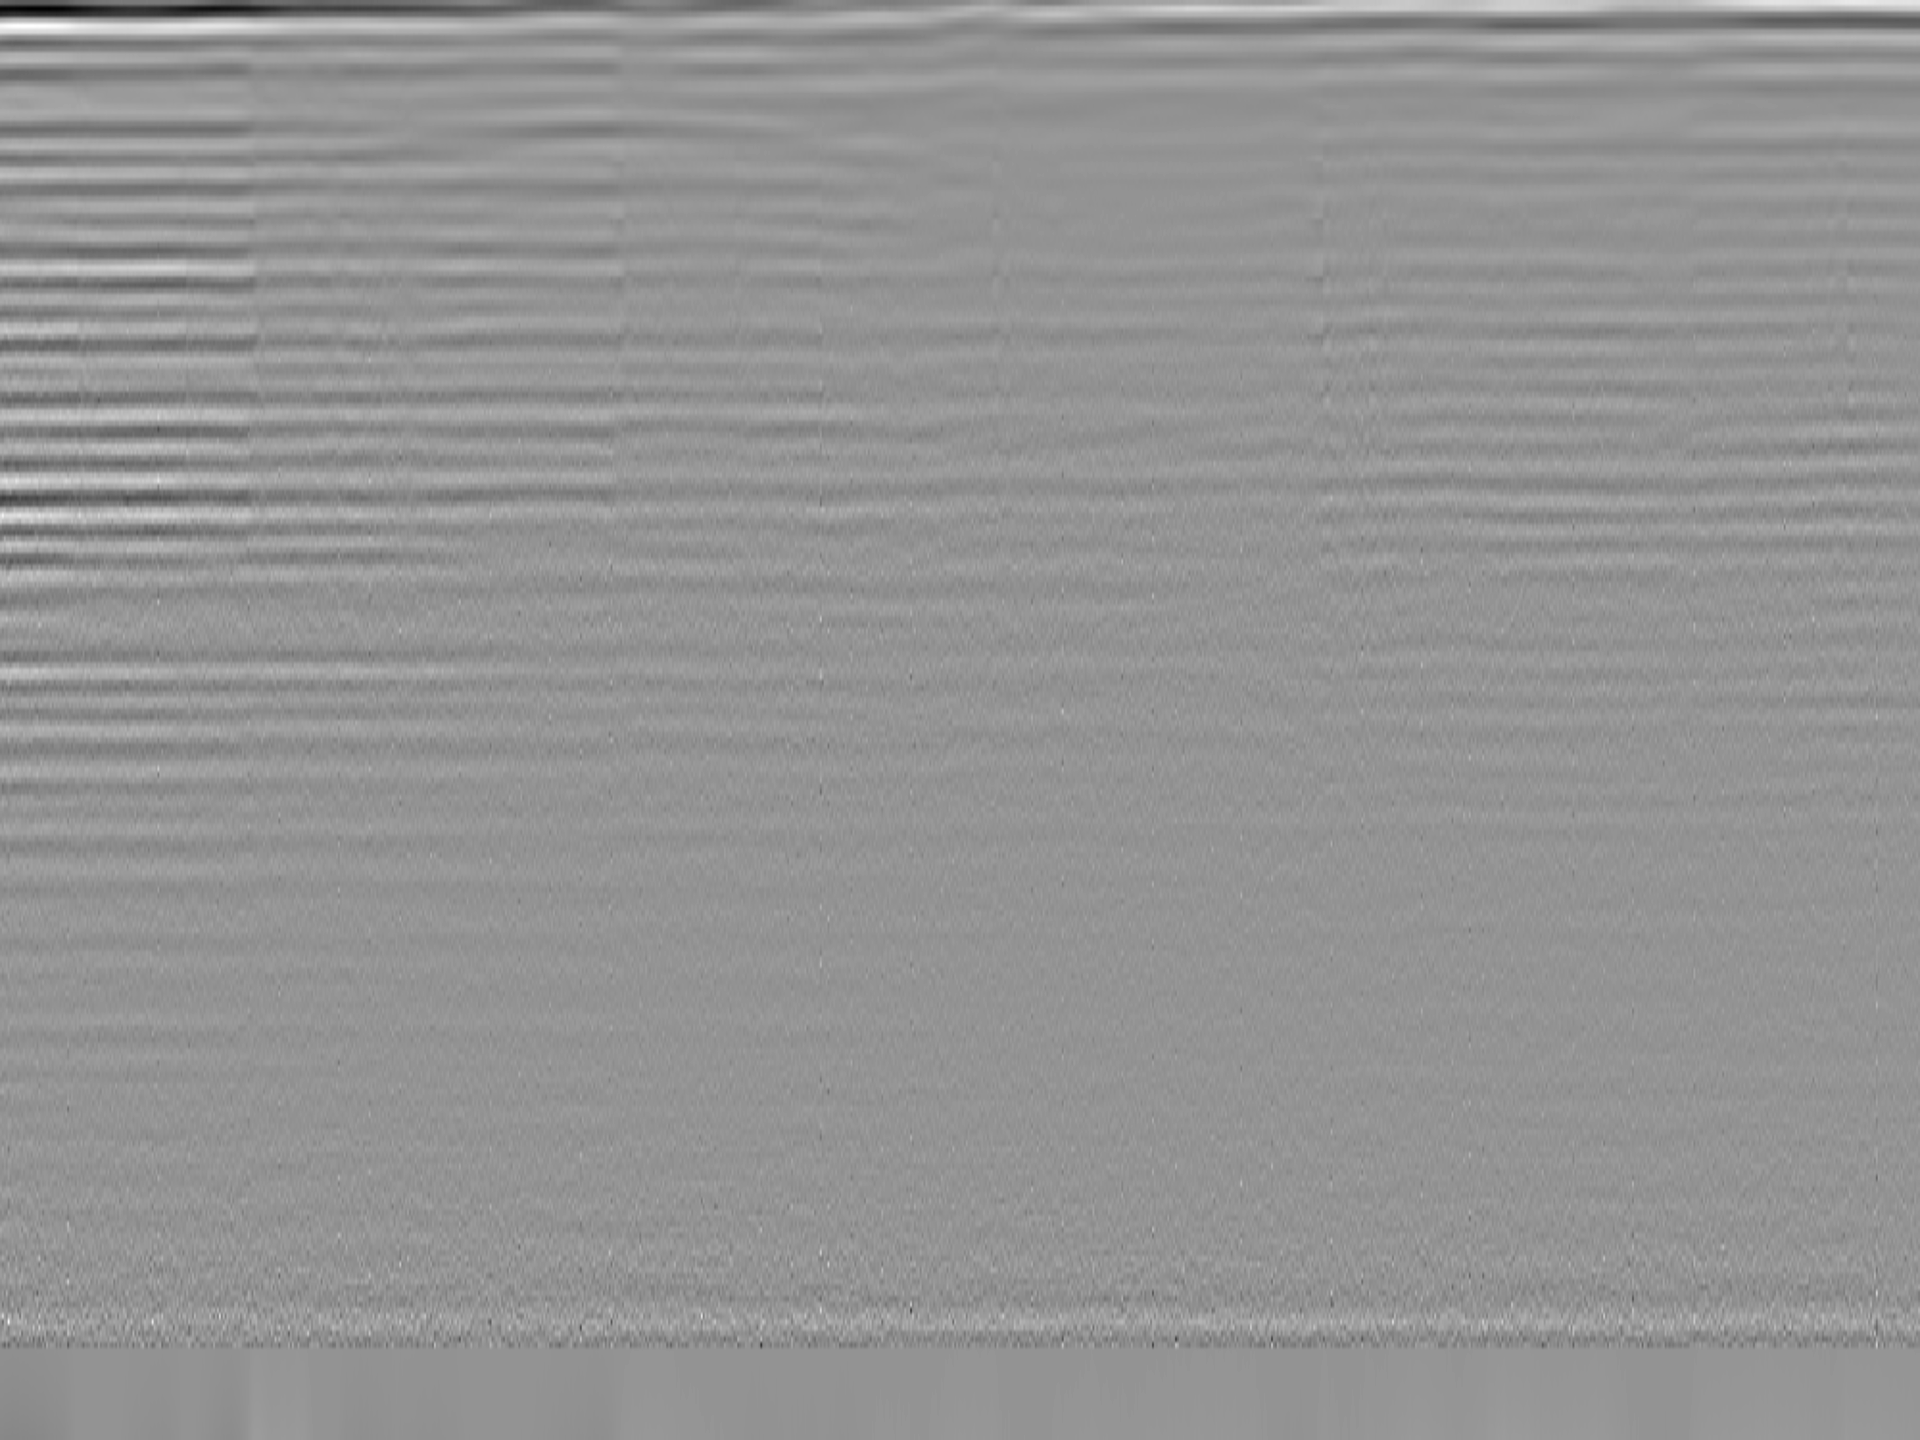Tunnel: (325, 106, 1007, 169)
